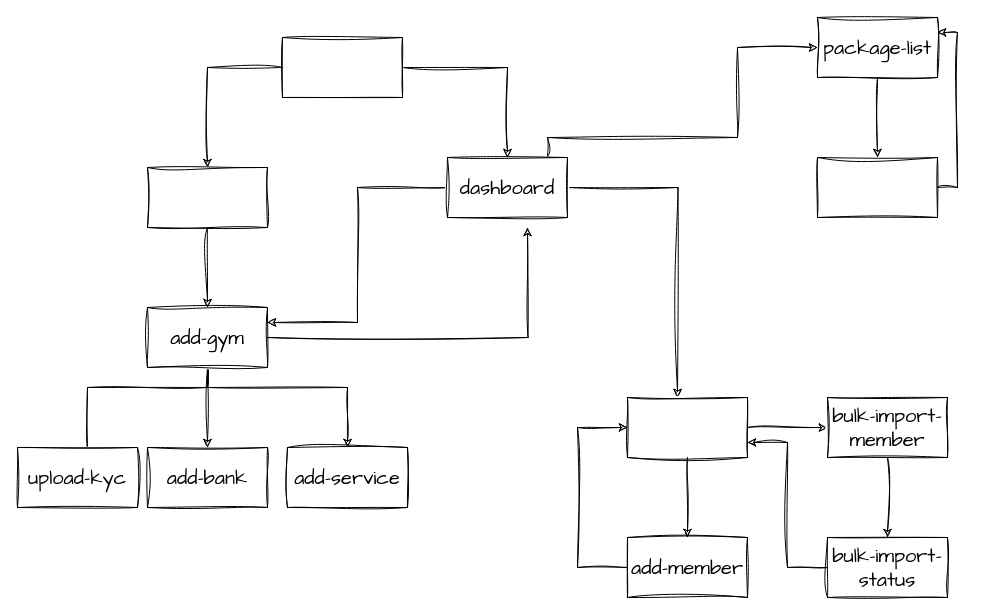
This 983x615 diagram has some shape labels left out. Here are the shapes that lost their labels. From the top down, the centre of each, then its label:
pixel 342 67: login
pixel 207 197: signup
pixel 877 187: add-package
pixel 687 427: member-list
